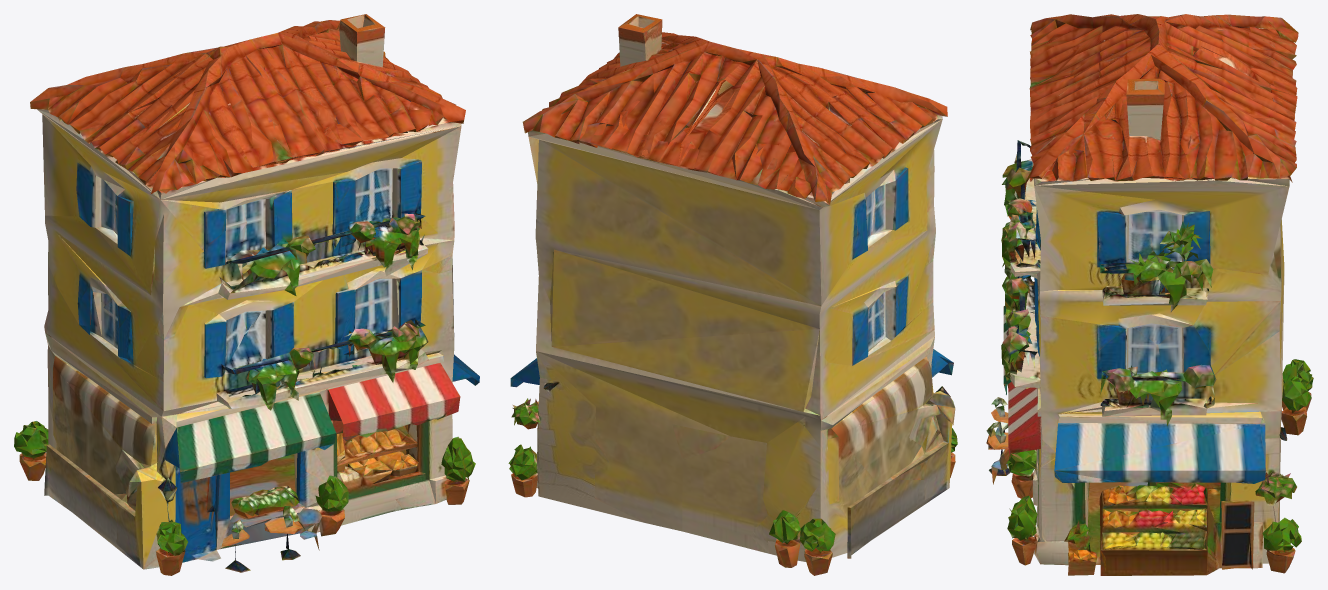
File: b_shops.glb
The picture shows the model from 3 angles, left to right: view 1: azimuth 30°, elevation 25°; view 2: azimuth 150°, elevation 25°; view 3: azimuth 270°, elevation 25°; orthographic projection. The views are drawn at different scales.
Size of the model in its own units: 1.56 by 1.9 by 1.22.
1 material, 1 textured.
